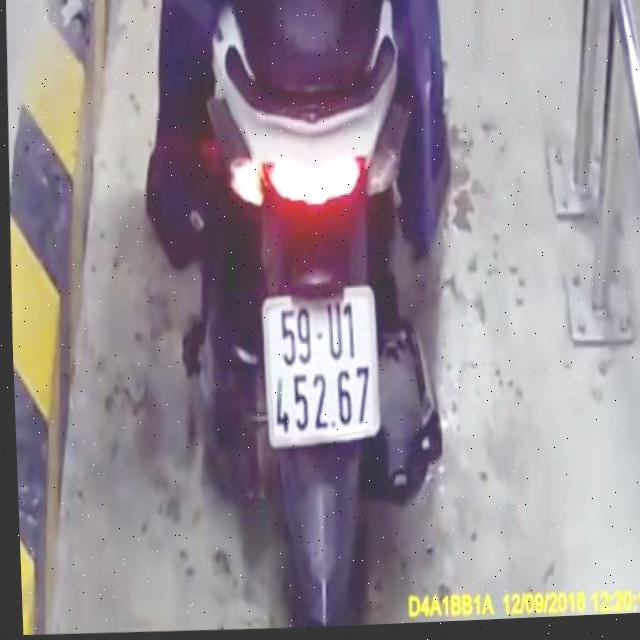motorcycle: (154, 0, 470, 633)
plate: (244, 280, 395, 454)
